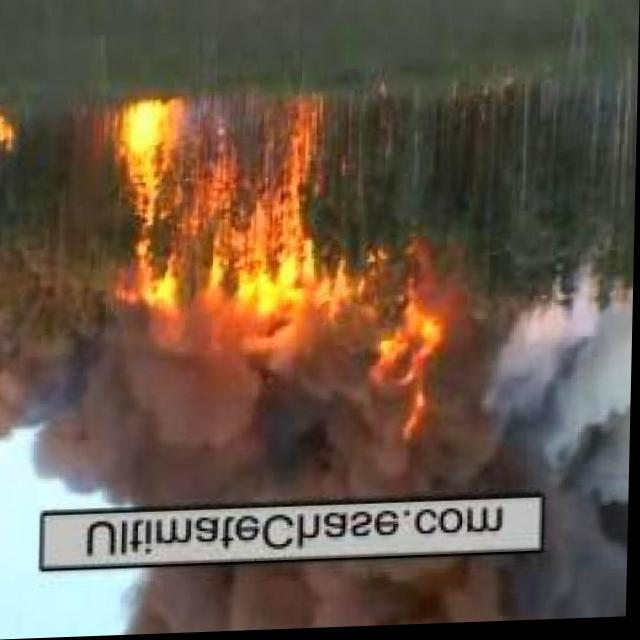Fire: (94, 75, 333, 302), (365, 293, 463, 420), (0, 109, 18, 152)
